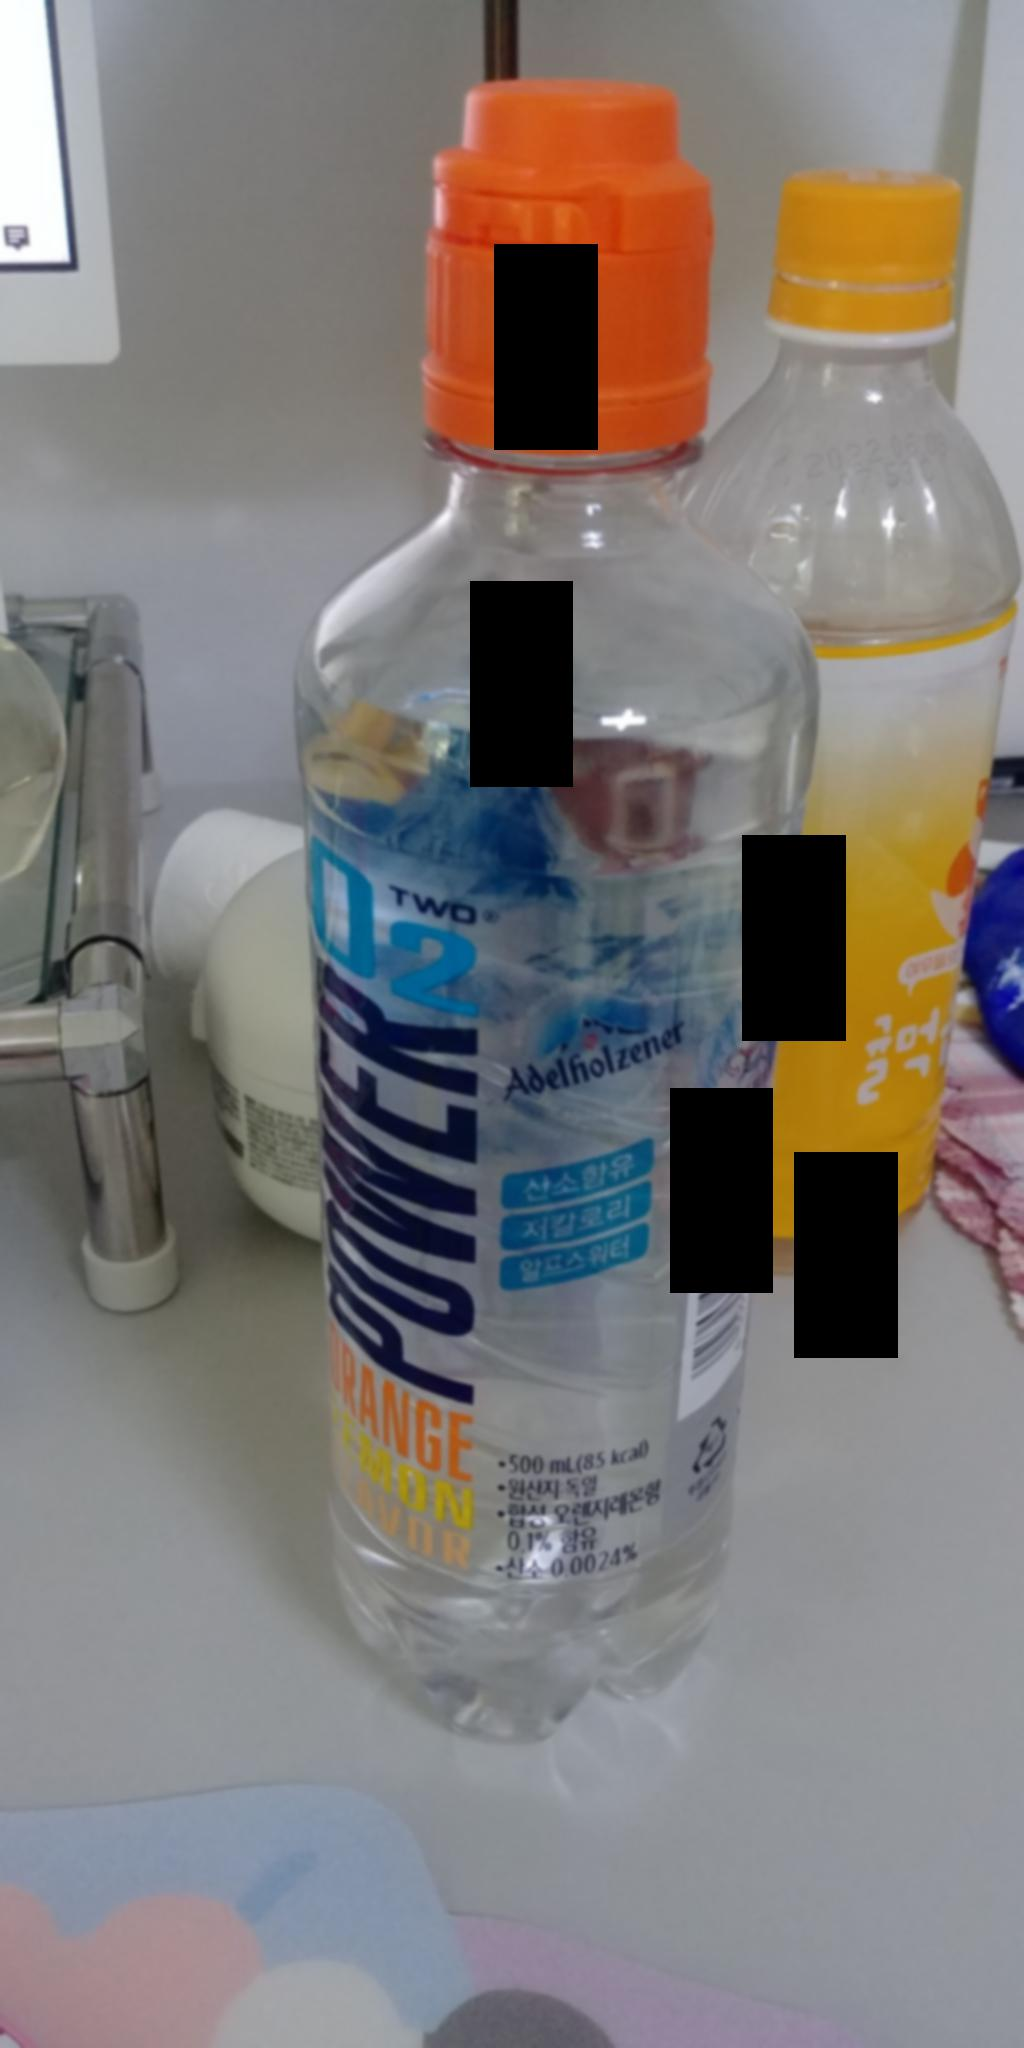powerO2_orange: (229, 20, 788, 1755)
